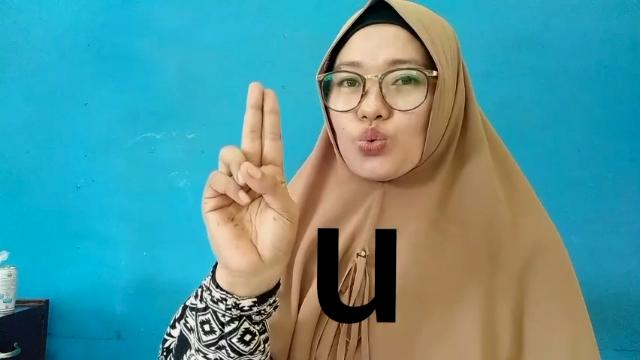U: (198, 78, 300, 274)
